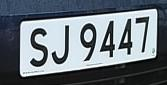4: (99, 12, 118, 67), (117, 11, 135, 64)
7: (135, 13, 153, 57)
9: (77, 16, 98, 67)
J: (48, 19, 74, 69)
S: (26, 20, 50, 73)
